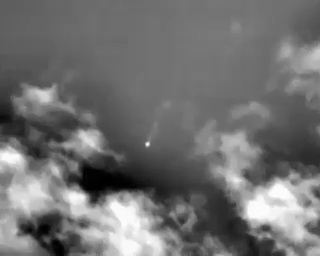AIRPLANE: (143, 138, 153, 150)
